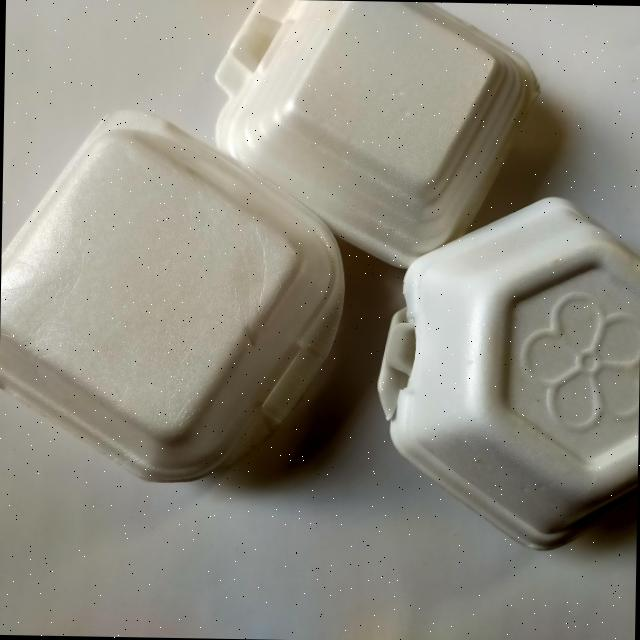styrofoam: (0, 104, 349, 486), (373, 191, 640, 552), (207, 0, 541, 271)
